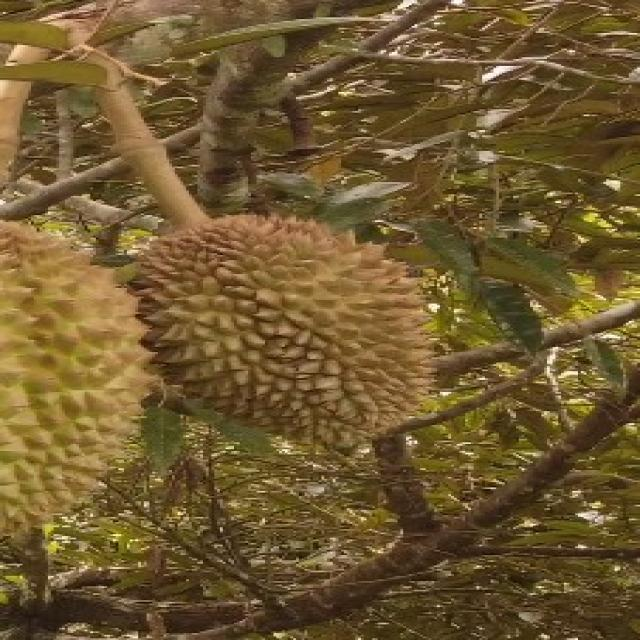mature: (130, 209, 438, 441)
